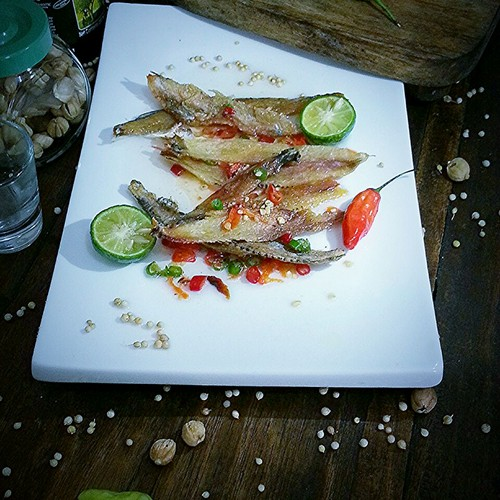sudang lepet: (117, 59, 384, 298)
